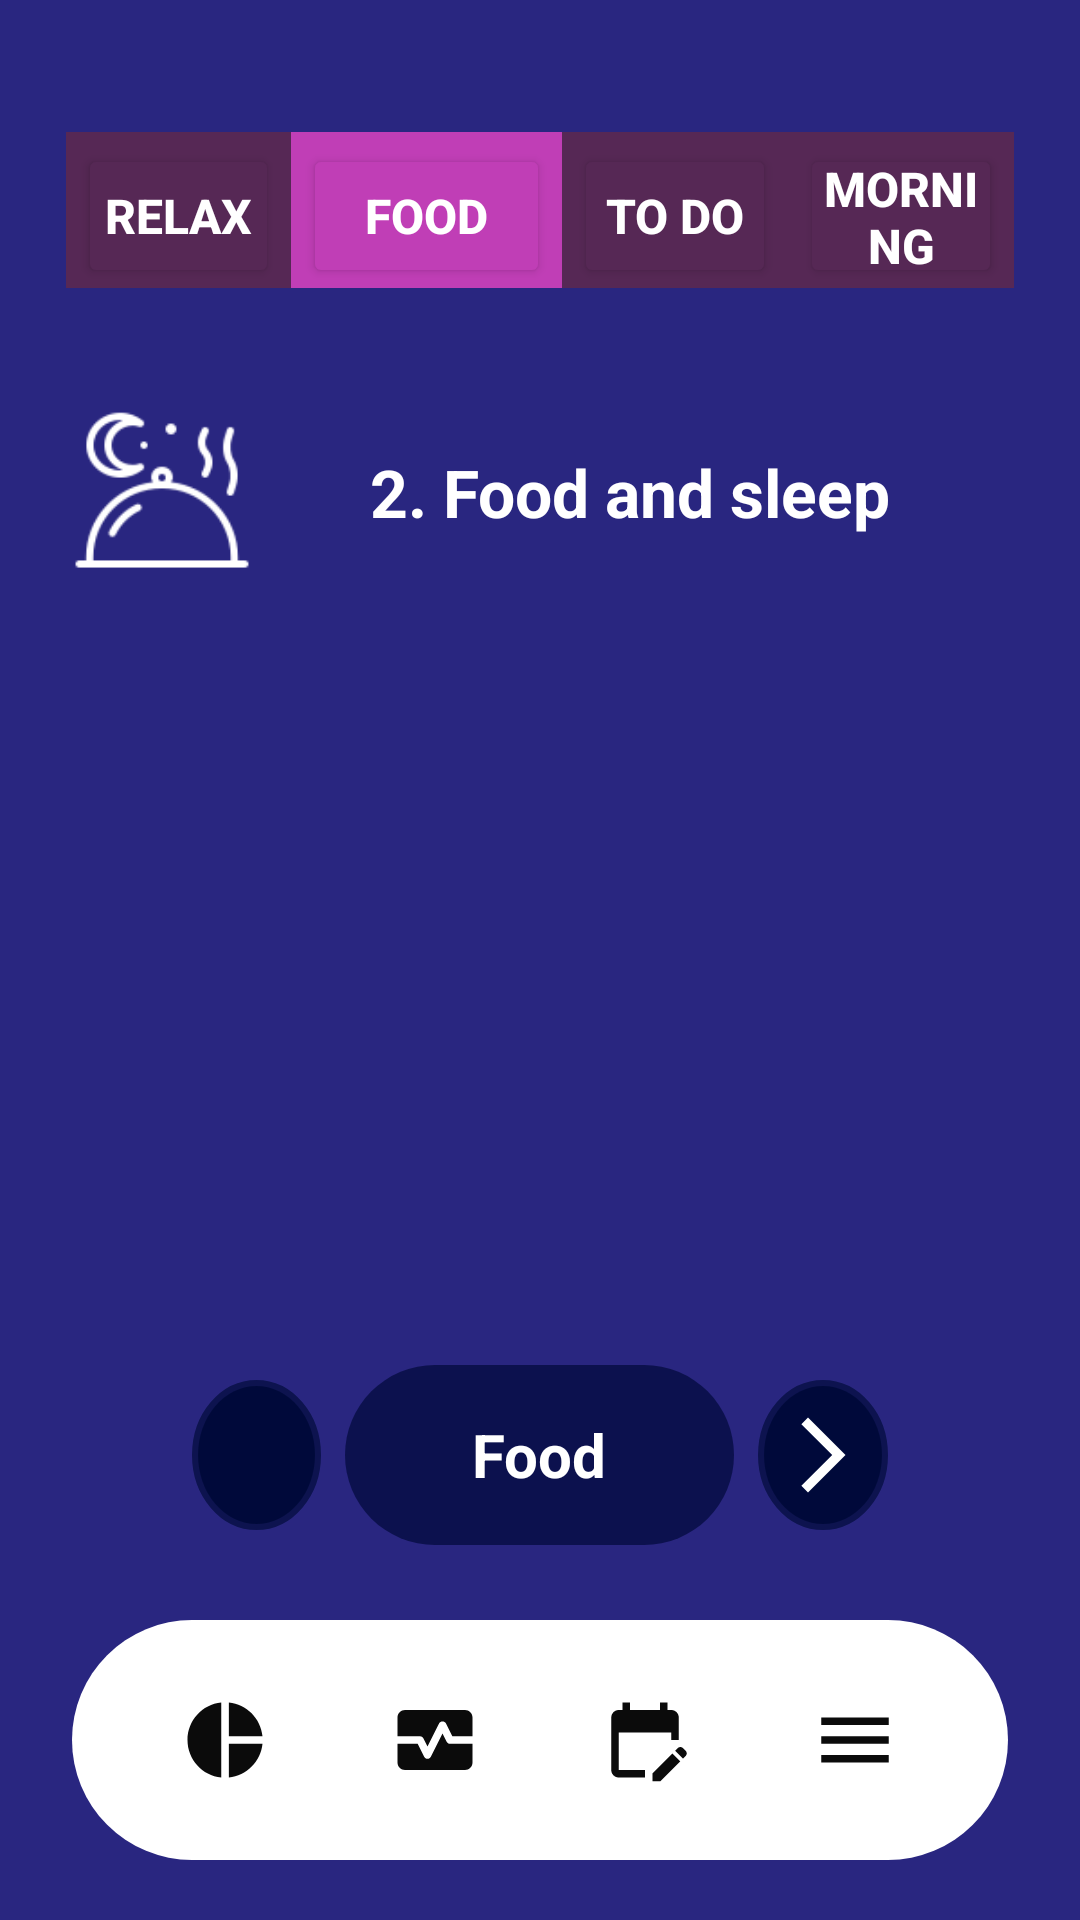

Where icons sit on this 1080x1920 app screen, as (x1, y1, x2, y2):
Caendar: (611, 1702, 687, 1782)
dinner advince activity: (75, 412, 249, 568)
Menu: (821, 1717, 889, 1763)
Next page: (758, 1380, 888, 1530)
